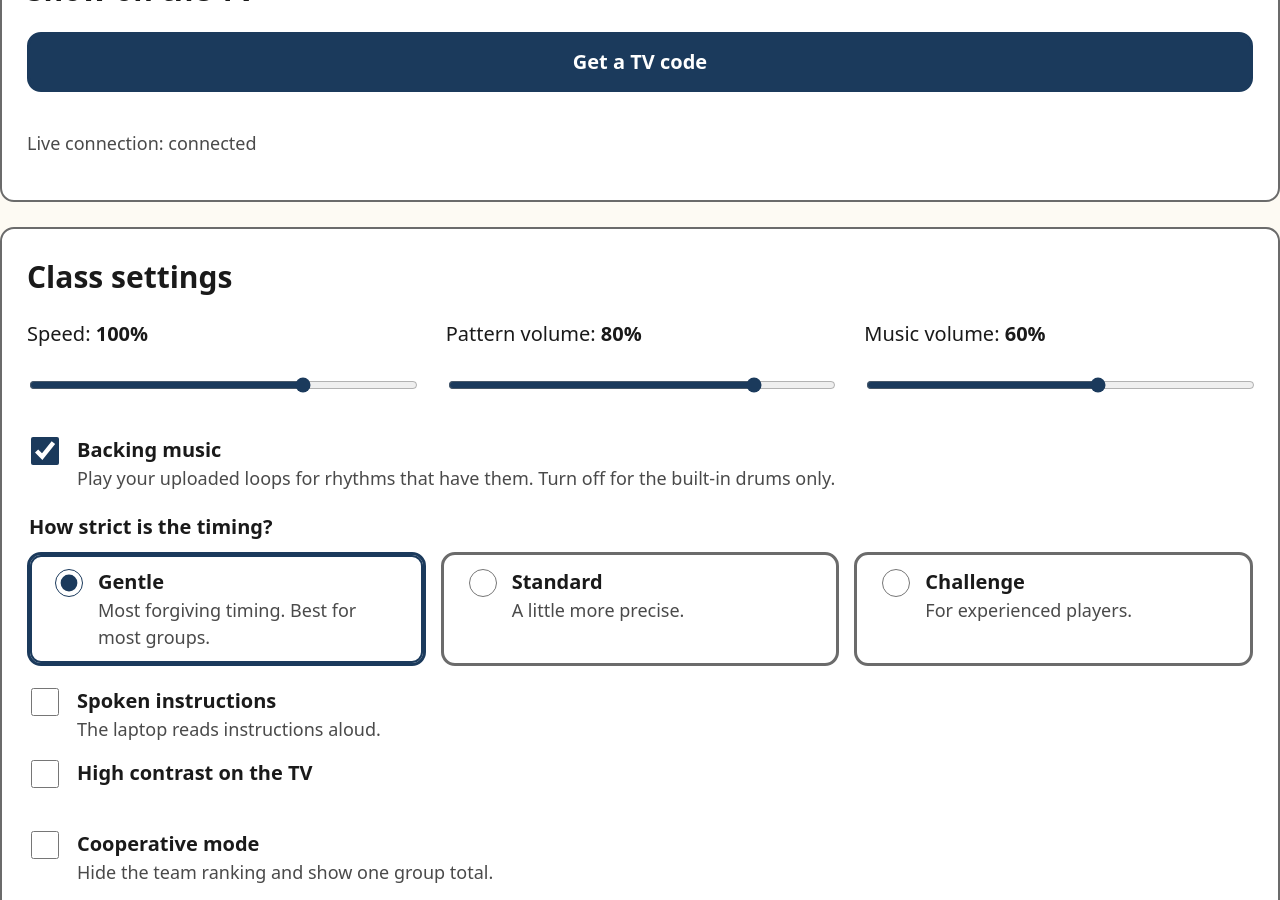
Scenario: music controls: separate volumes and an off switch
(page scrolled)
expect the slider labelled "Pattern volume: 80%" holds "80": met, box x1=448 y1=357 x2=836 y2=413
expect the slider labelled "Music volume: 60%" holds "60": met, box x1=866 y1=357 x2=1255 y2=413
Click the checkbox labelled "Backing music": {"x": 45, "y": 451} x1=31 y1=437 x2=59 y2=465
(page scrolled)
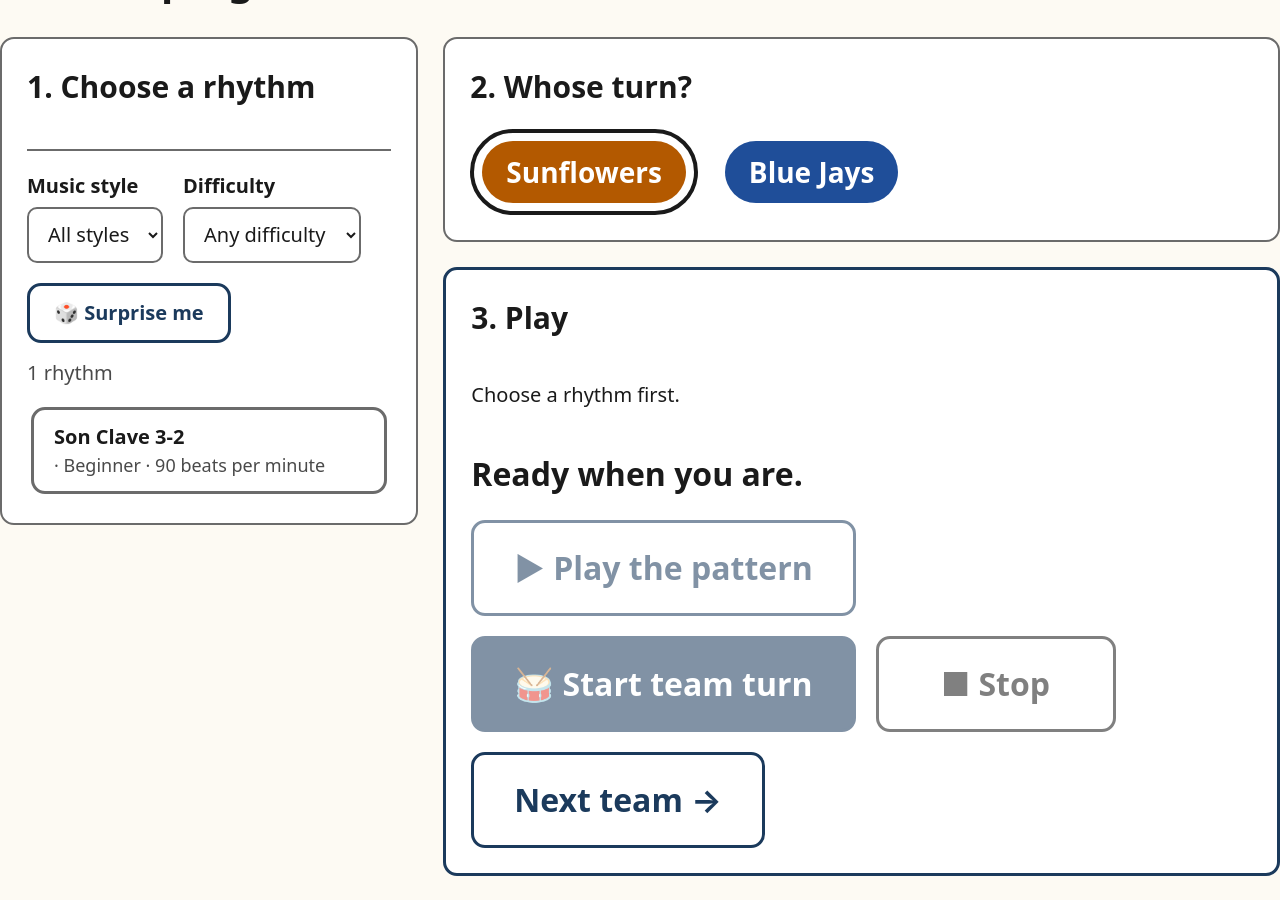
Click the button "Son Clave 3-2 · Beginner · 90 beats per minute": {"x": 209, "y": 450} x1=31 y1=407 x2=387 y2=494
(page scrolled)
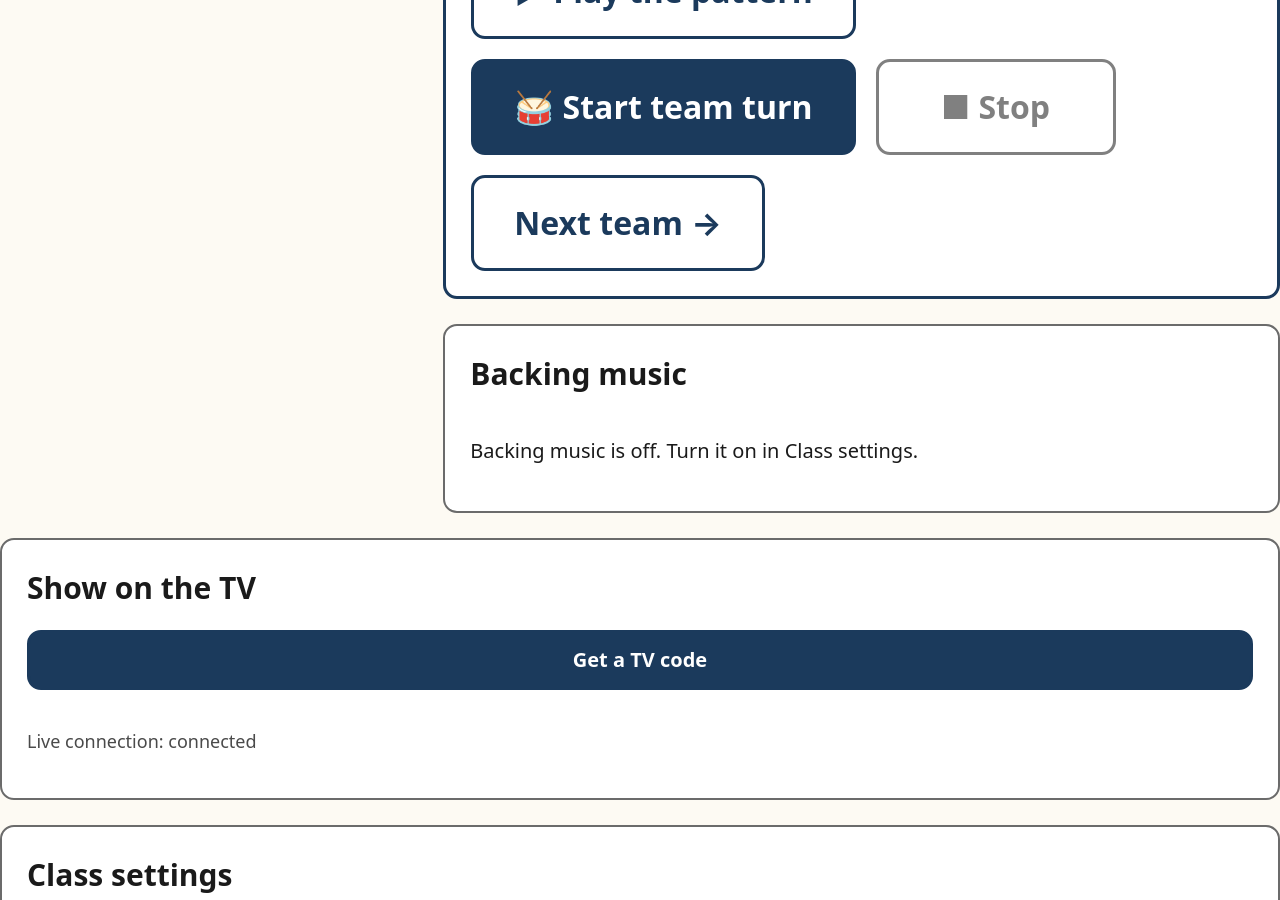
expect the text "Backing music is off. Turn it on in Class settings." is shown: met, box x1=470 y1=437 x2=918 y2=464
